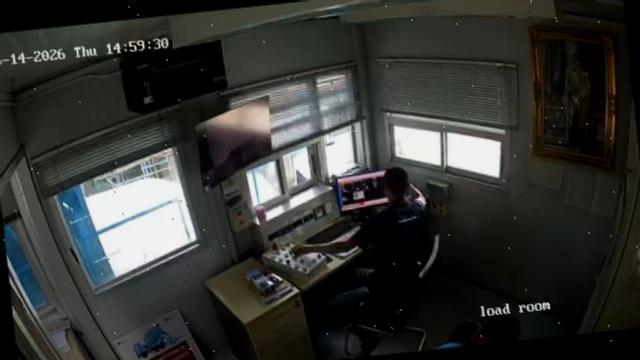Head: (374, 165, 417, 210), (466, 312, 522, 346)
People: (292, 167, 426, 323), (471, 315, 521, 345)
